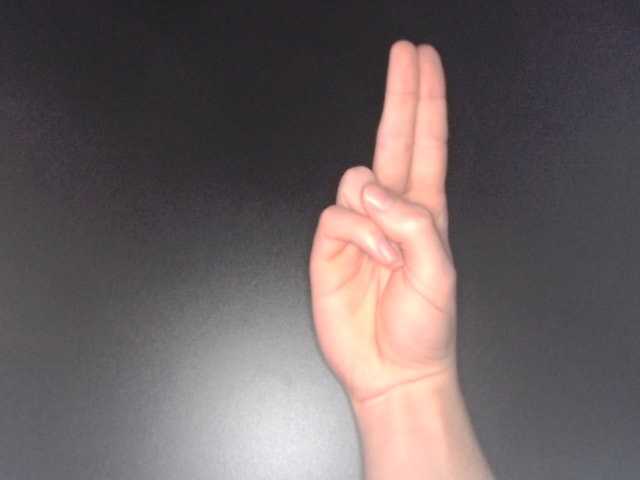r: (300, 36, 464, 420)
